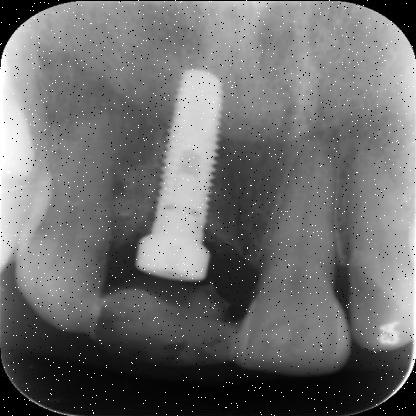Bego: (135, 68, 229, 282)
